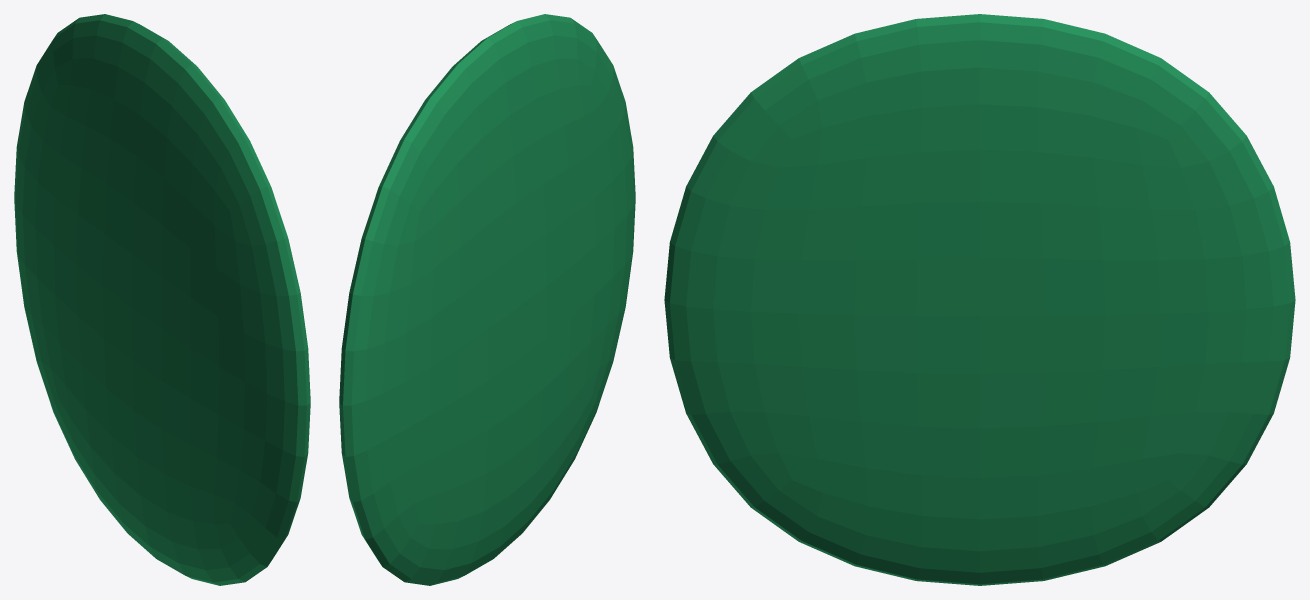
File: powerCoinGreen.fbx
3 renders of one model, left to right at view 1: azimuth 30°, elevation 25°; view 2: azimuth 150°, elevation 25°; view 3: azimuth 270°, elevation 25°, orthographic. The views are drawn at different scales.
Parts seen in each view (by area): view 1: Cube; view 2: Cube; view 3: Cube.
Boxes of the visible parts, x1,y1,x2,y2 form: Cube: (14, 14, 310, 585); Cube: (339, 14, 635, 585); Cube: (664, 14, 1295, 585).
Size of the model in its own units: 2.06 by 16.79 by 16.79.
1 material, 1 textured.
